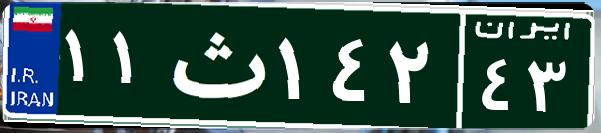1: (273, 28, 330, 110), (57, 26, 110, 107), (110, 28, 158, 105)
2: (385, 28, 445, 110)
3: (525, 38, 570, 115)
4: (330, 28, 385, 110), (475, 38, 525, 113)
ث: (158, 15, 273, 115)
